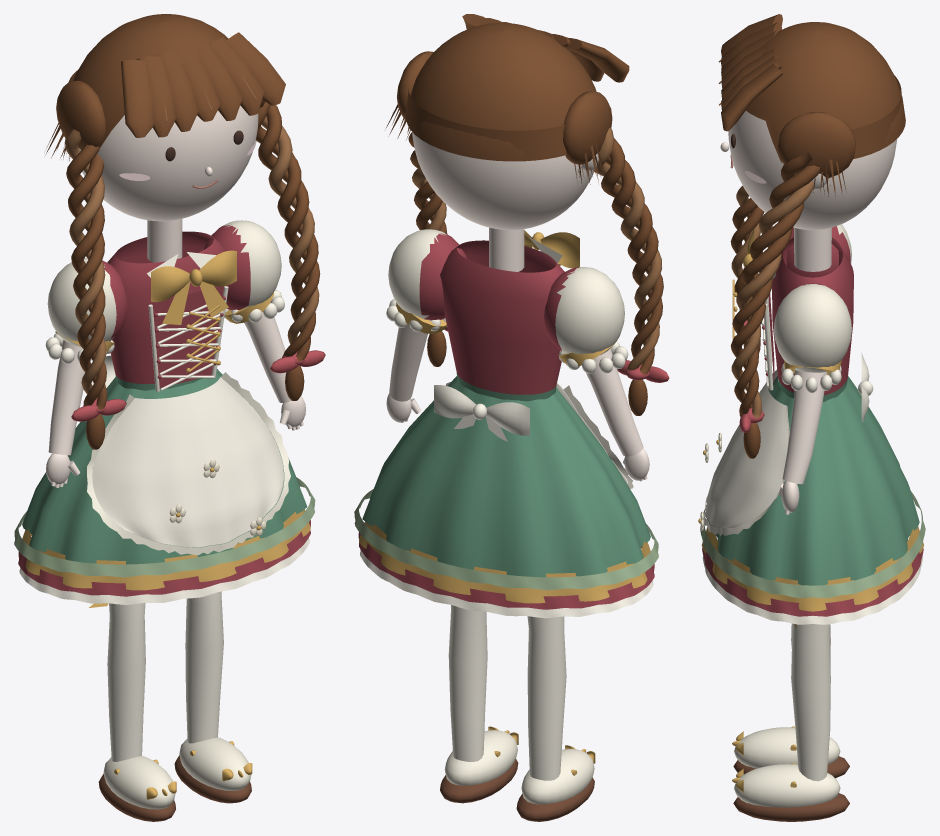
Rendered from 10_braid_folk.glb.
3 views of the same model, side by side, from view 1: azimuth 30°, elevation 25°; view 2: azimuth 150°, elevation 25°; view 3: azimuth 270°, elevation 25° (orthographic).
Parts seen in each view (by area): view 1: Chestnut twin braids / folk dress; view 2: Chestnut twin braids / folk dress; view 3: Chestnut twin braids / folk dress.
Part boxes in pixels (<box>): Chestnut twin braids / folk dress: <box>14,14,325,821</box>; Chestnut twin braids / folk dress: <box>354,14,669,821</box>; Chestnut twin braids / folk dress: <box>698,14,925,821</box>.
Size of the model in its own units: 0.486 by 1.27 by 0.3412.
